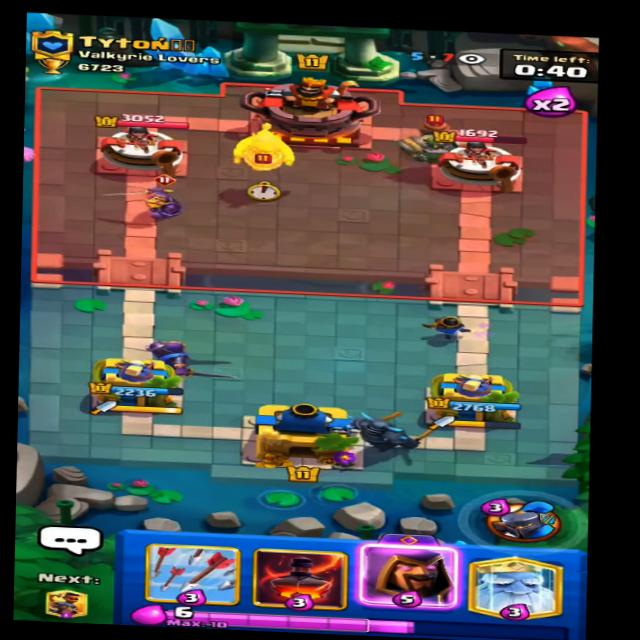evo-knight: (123, 172, 199, 221)
goblin-demolisher: (222, 119, 311, 184)
goblin-machine: (382, 112, 480, 168)
